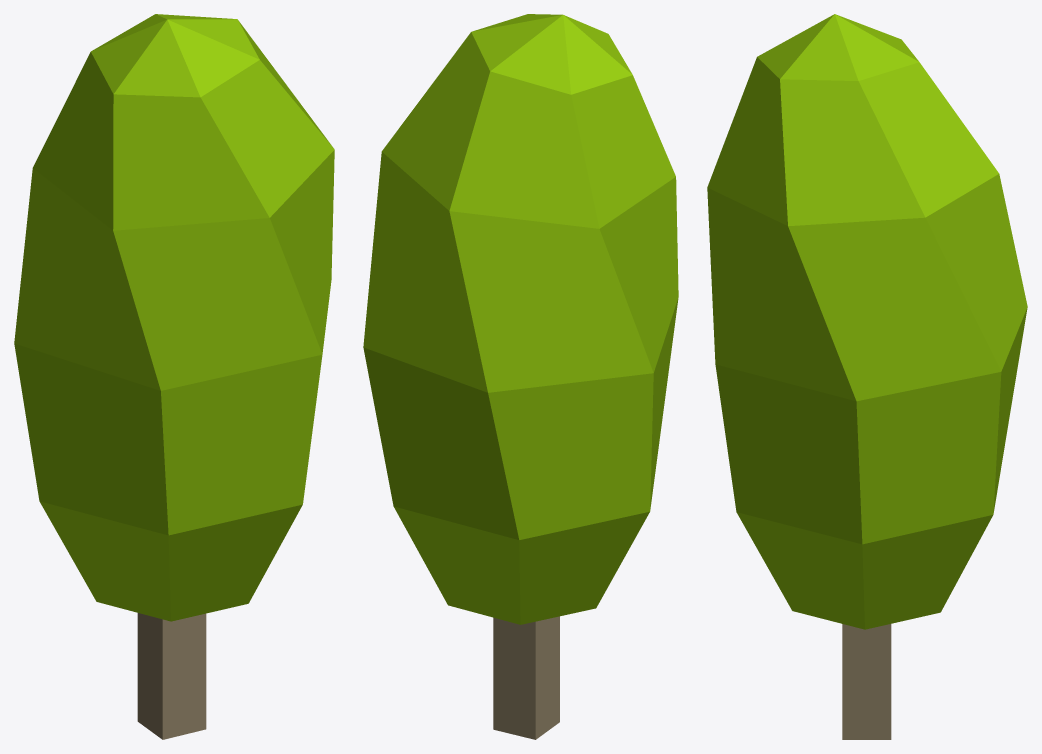
Rendered from tree_cylinder_3.fbx.
The picture shows the model from 3 angles, left to right: view 1: azimuth 30°, elevation 25°; view 2: azimuth 150°, elevation 25°; view 3: azimuth 270°, elevation 25°; orthographic projection. The views are drawn at different scales.
Visible parts, largest first — view 1: tree_cylinder_3; view 2: tree_cylinder_3; view 3: tree_cylinder_3.
Boxes of the visible parts, x1,y1,x2,y2 form: tree_cylinder_3: (14,14,334,739); tree_cylinder_3: (363,14,678,739); tree_cylinder_3: (707,14,1027,739).
Size of the model in its own units: 84.38 by 195 by 80.44.
